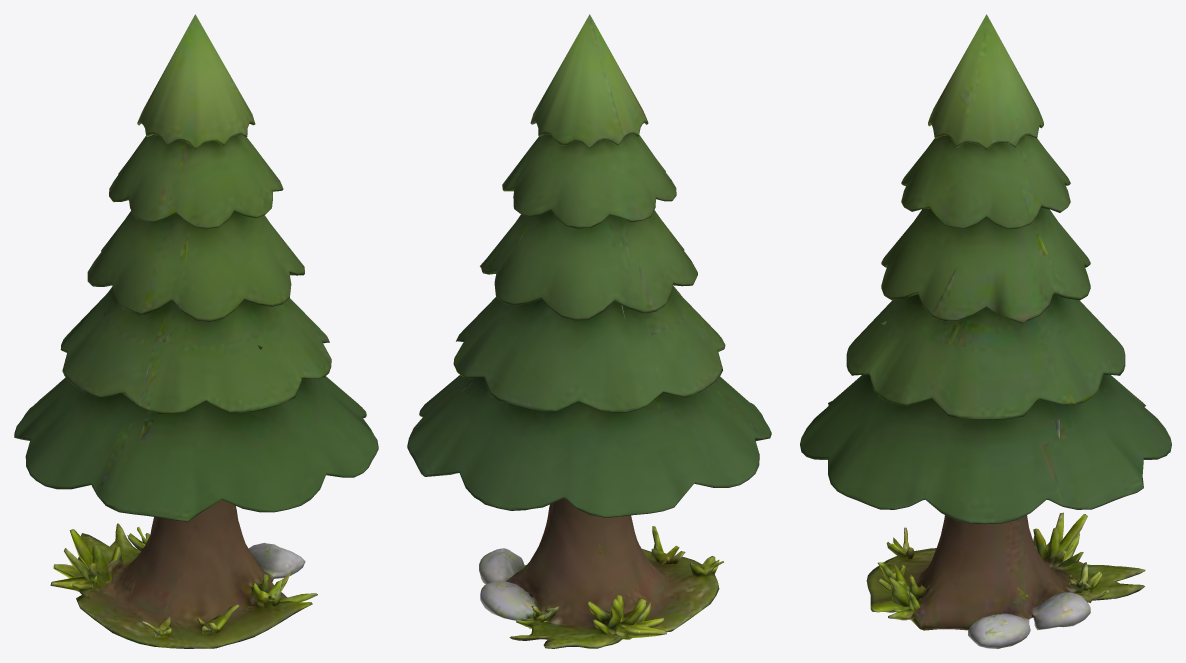
3 renders of one model, left to right at view 1: azimuth 30°, elevation 25°; view 2: azimuth 150°, elevation 25°; view 3: azimuth 270°, elevation 25°, orthographic.
Bounding box in the file's own units: 1.09 × 1.91 × 1.09.
1 material, 1 textured.
